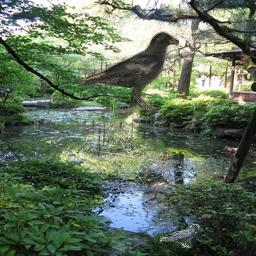Crow: (76, 31, 179, 112), (160, 224, 200, 248)
